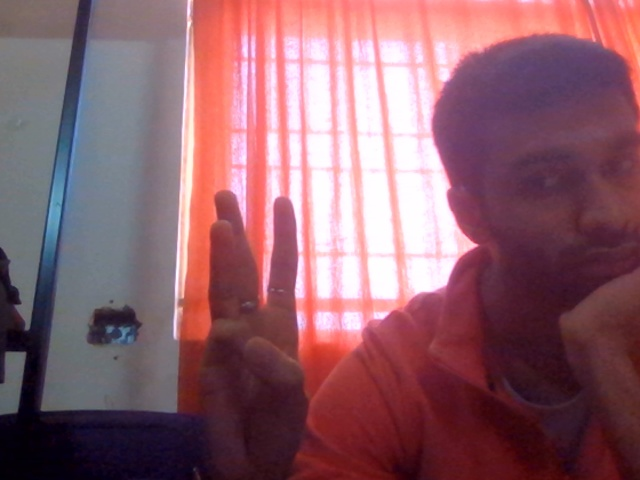W: (152, 181, 333, 465)
